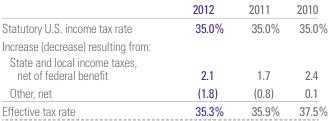table: (1, 0, 327, 118)
table column: (1, 0, 163, 118), (163, 0, 235, 118), (235, 0, 287, 118), (287, 0, 327, 118)
table column header: (1, 0, 327, 17)
table projected row header: (1, 36, 327, 53)
table row: (1, 53, 327, 83), (1, 17, 327, 36), (1, 83, 327, 101), (1, 0, 327, 17), (1, 36, 327, 53), (1, 101, 327, 118)
